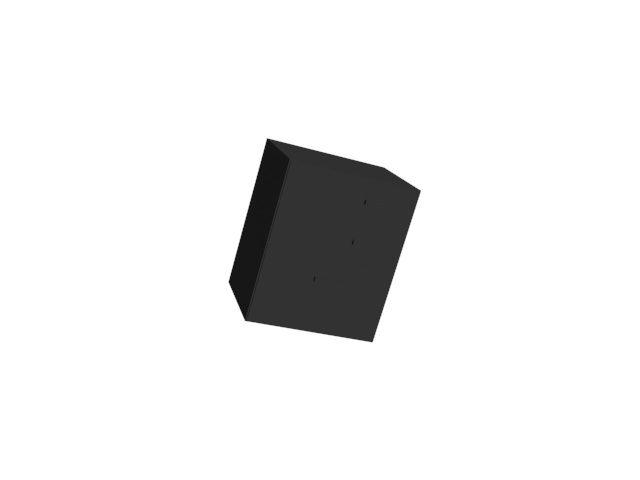file_cabinet: (225, 137, 424, 344)
